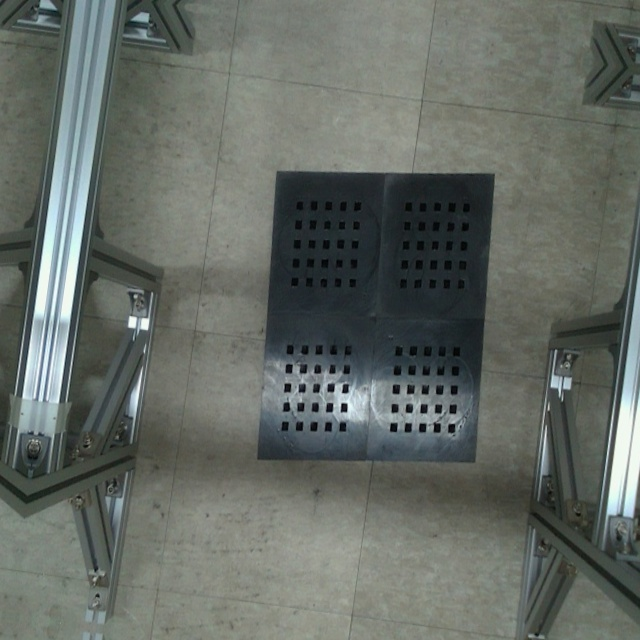pallet: (247, 157, 511, 476)
